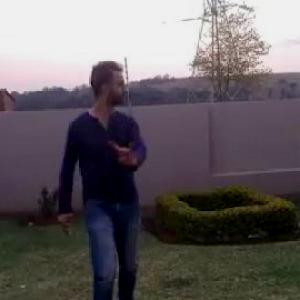takeoff-hand: (108, 137, 139, 172)
